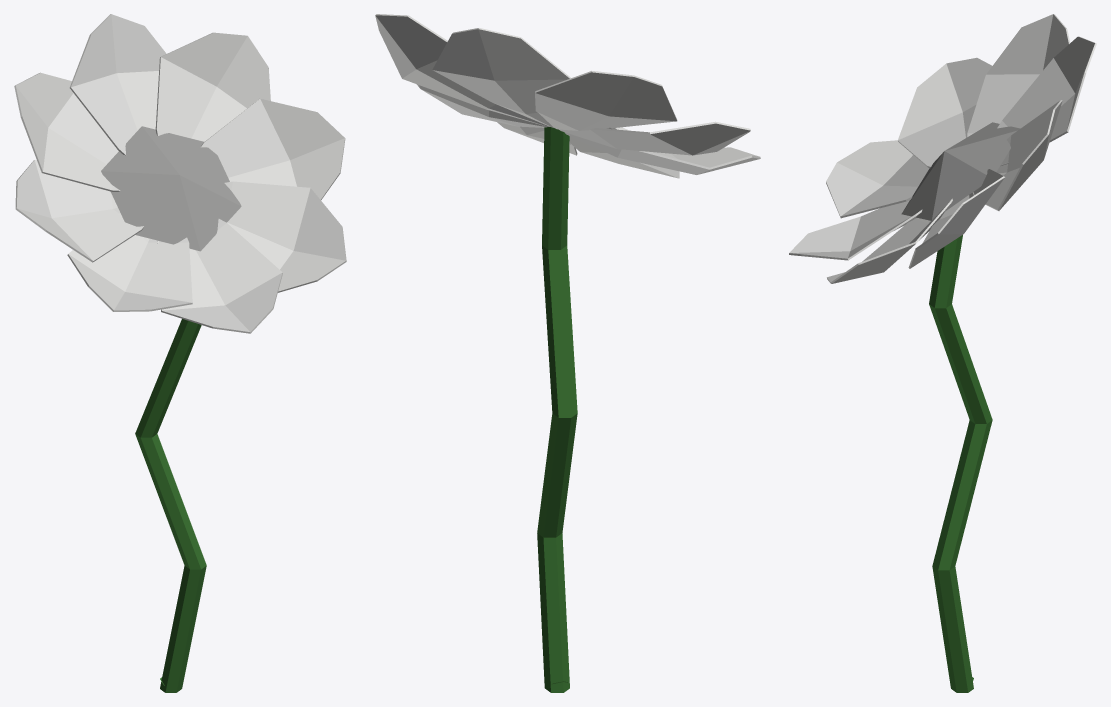
The model's file is Flower_5_White.fbx.
The picture shows the model from 3 angles, left to right: view 1: azimuth 30°, elevation 25°; view 2: azimuth 150°, elevation 25°; view 3: azimuth 270°, elevation 25°; orthographic projection. The views are drawn at different scales.
Parts seen in each view (by area): view 1: Flower_5_White_Part_2, Flower_5_White_Part_3, Flower_5_White_Part_1; view 2: Flower_5_White_Part_2, Flower_5_White_Part_1; view 3: Flower_5_White_Part_2, Flower_5_White_Part_1, Flower_5_White_Part_3.
Boxes of the visible parts, x1,y1,x2,y2 form: Flower_5_White_Part_2: (14, 14, 346, 333); Flower_5_White_Part_3: (101, 126, 241, 251); Flower_5_White_Part_1: (135, 319, 206, 692); Flower_5_White_Part_2: (375, 14, 760, 178); Flower_5_White_Part_1: (537, 127, 577, 692); Flower_5_White_Part_2: (789, 14, 1096, 283); Flower_5_White_Part_1: (929, 235, 992, 692); Flower_5_White_Part_3: (901, 122, 1020, 220).
Size of the model in its own units: 20.28 by 37.24 by 16.04.
